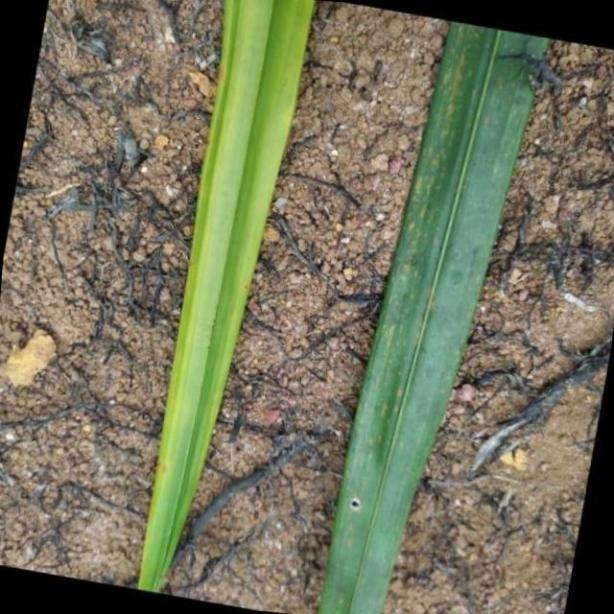nitrogen: (318, 0, 545, 614), (136, 0, 316, 614)
